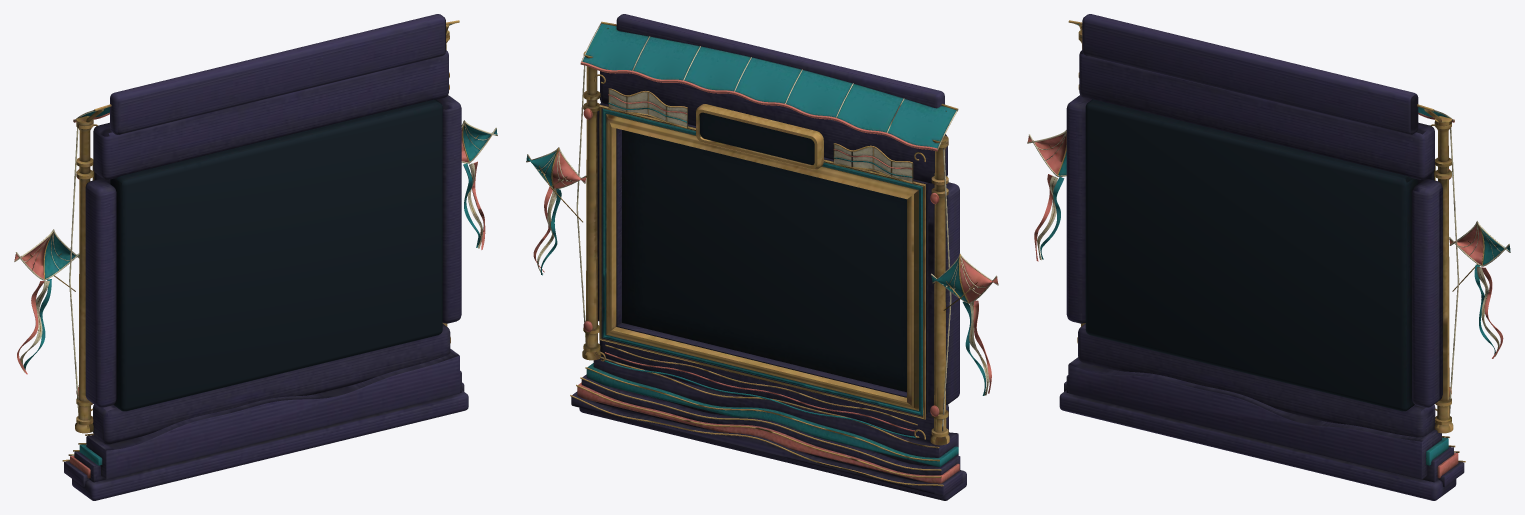
3 views of the same model, side by side, from view 1: azimuth 30°, elevation 25°; view 2: azimuth 150°, elevation 25°; view 3: azimuth 330°, elevation 25° (orthographic). The views are drawn at different scales.
Parts seen in each view (by area): view 1: Uniform_midnight_inset, Violet_coastal_slate, Satin_nautical_brass, Lagoon_woven_cloth, Warm_folded_paper, Coral_woven_binding; view 2: Uniform_midnight_inset, Violet_coastal_slate, Satin_nautical_brass, Lagoon_woven_cloth, Coral_woven_binding, Warm_folded_paper; view 3: Uniform_midnight_inset, Violet_coastal_slate, Satin_nautical_brass, Coral_woven_binding, Warm_folded_paper, Lagoon_woven_cloth.
Part boxes in pixels (x1,y1,x2,y2): Uniform_midnight_inset: (110,99,442,411); Violet_coastal_slate: (64,14,468,500); Satin_nautical_brass: (21,20,482,461); Lagoon_woven_cloth: (23,24,497,465); Warm_folded_paper: (14,23,497,415); Coral_woven_binding: (14,112,485,478); Uniform_midnight_inset: (622,112,906,392); Violet_coastal_slate: (571,14,966,500); Satin_nautical_brass: (537,21,987,486); Lagoon_woven_cloth: (526,23,985,467); Coral_woven_binding: (533,61,998,483); Warm_folded_paper: (526,23,998,431); Uniform_midnight_inset: (1085,99,1417,411); Violet_coastal_slate: (1059,14,1464,500); Satin_nautical_brass: (1038,20,1498,462); Coral_woven_binding: (1027,112,1503,478); Warm_folded_paper: (1027,23,1510,415); Lagoon_woven_cloth: (1040,24,1510,465).
Bounding box in the file's own units: 13.03 × 10.3 × 1.48.
Materials: 6 (6 with a texture image).
